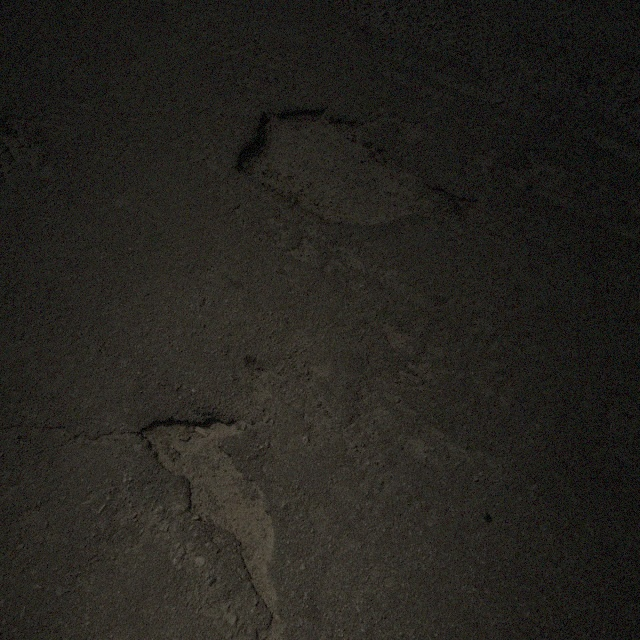pothole: (137, 413, 290, 639), (227, 101, 483, 233), (0, 112, 51, 183)
